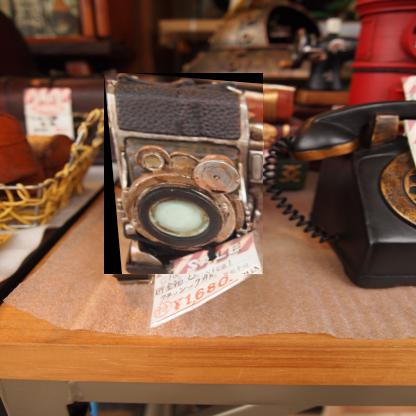Camera: (105, 75, 265, 279)
